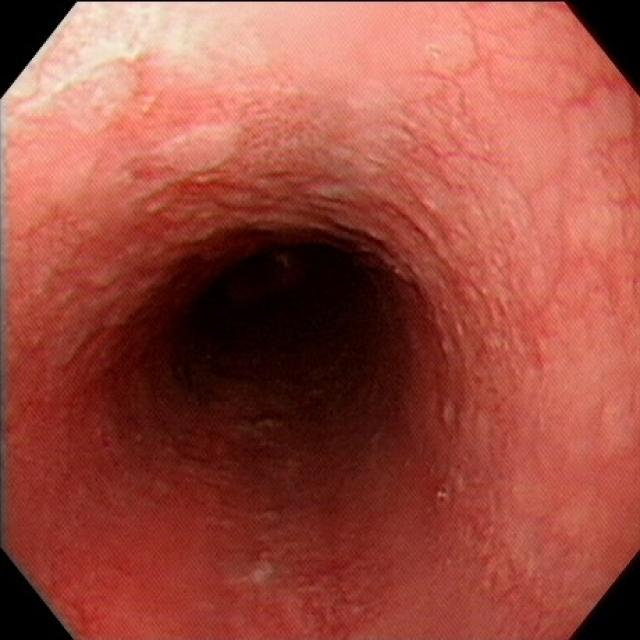A: (440, 266, 536, 436), (161, 177, 379, 236), (245, 97, 314, 172)
E: (176, 246, 392, 420)
J: (307, 126, 417, 205), (42, 59, 142, 130), (156, 117, 255, 178)
